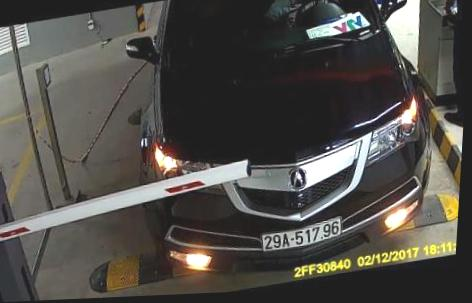License_Plate: (248, 212, 348, 253)
